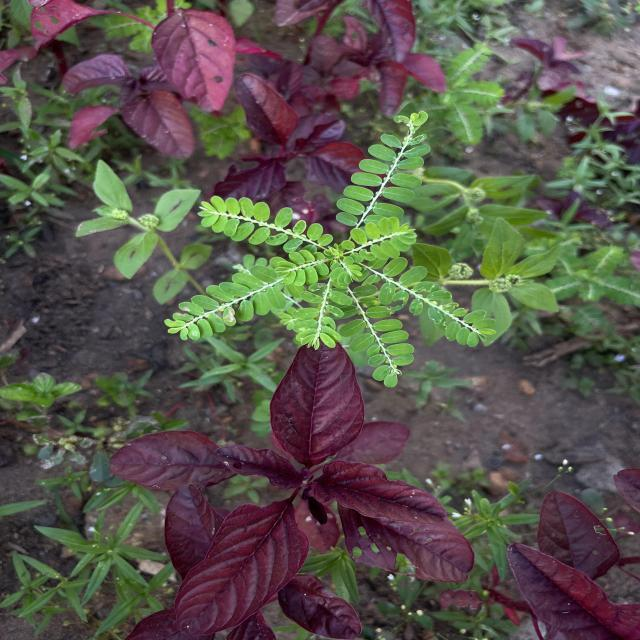Phyllanthus niruri: (362, 254, 500, 348), (330, 120, 438, 226), (163, 262, 284, 344), (336, 283, 417, 389), (195, 192, 333, 254), (291, 281, 354, 349), (340, 215, 420, 262)
